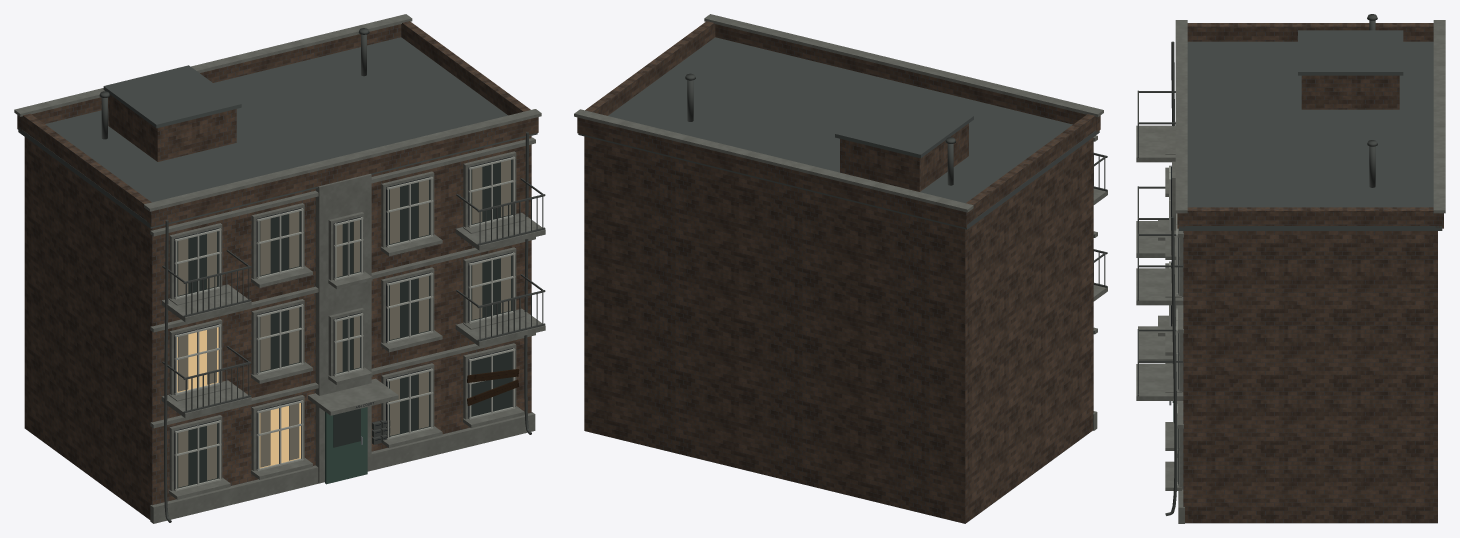
Rendered from tenement-wing.glb.
3 renders of one model, left to right at view 1: azimuth 30°, elevation 25°; view 2: azimuth 150°, elevation 25°; view 3: azimuth 270°, elevation 25°, orthographic.
Visible parts, largest first — view 1: Three storey brick shell, Flat roof, Stairwell render, Parapet, Low stone plinth, Utility cap, Roof utility housing, Parapet coping, Parapet.001, End parapet, Parapet coping.001, End parapet.001 (+39 smaller); view 2: Three storey brick shell, Flat roof, Parapet.001, Parapet, Utility cap, Roof utility housing, Parapet coping.001, Parapet coping, End parapet, End parapet.001; view 3: Three storey brick shell, Flat roof, Utility cap, End parapet.001, End parapet, Roof utility housing, Parapet coping, Parapet coping.001, Balcony slab.003, Balcony slab.001, Balcony slab.002, Rainwater pipe.001 (+2 smaller).
Part boxes in pixels (x1,y1,x2,y2): Three storey brick shell: [24, 136, 531, 519]; Flat roof: [18, 37, 537, 228]; Stairwell render: [315, 174, 371, 483]; Parapet: [147, 117, 538, 226]; Low stone plinth: [150, 412, 535, 523]; Utility cap: [103, 65, 241, 128]; Roof utility housing: [108, 95, 236, 161]; Parapet coping: [144, 109, 541, 211]; Parapet.001: [17, 24, 401, 131]; End parapet: [22, 113, 151, 220]; Parapet coping.001: [14, 14, 412, 116]; End parapet.001: [401, 21, 530, 115]; Three storey brick shell: [584, 136, 1093, 523]; Flat roof: [578, 37, 1099, 229]; Parapet.001: [577, 117, 970, 227]; Parapet: [715, 24, 1100, 132]; Utility cap: [835, 95, 973, 158]; Roof utility housing: [840, 123, 968, 191]; Parapet coping.001: [574, 109, 973, 212]; Parapet coping: [704, 14, 1103, 117]; End parapet: [966, 114, 1095, 221]; End parapet.001: [585, 21, 715, 115]; Three storey brick shell: [1183, 231, 1437, 523]; Flat roof: [1179, 41, 1442, 230]; Utility cap: [1298, 30, 1403, 75]; End parapet.001: [1186, 207, 1435, 225]; End parapet: [1187, 23, 1433, 41]; Roof utility housing: [1301, 75, 1399, 109]; Parapet coping: [1175, 20, 1187, 213]; Parapet coping.001: [1433, 20, 1445, 213]; Balcony slab.003: [1136, 268, 1183, 305]; Balcony slab.001: [1136, 364, 1183, 400]; Balcony slab.002: [1136, 125, 1175, 162]; Rainwater pipe.001: [1165, 216, 1177, 515].
Bounding box in the file's own units: 12.4 × 10.51 × 8.51.
12 materials, 3 textured.
